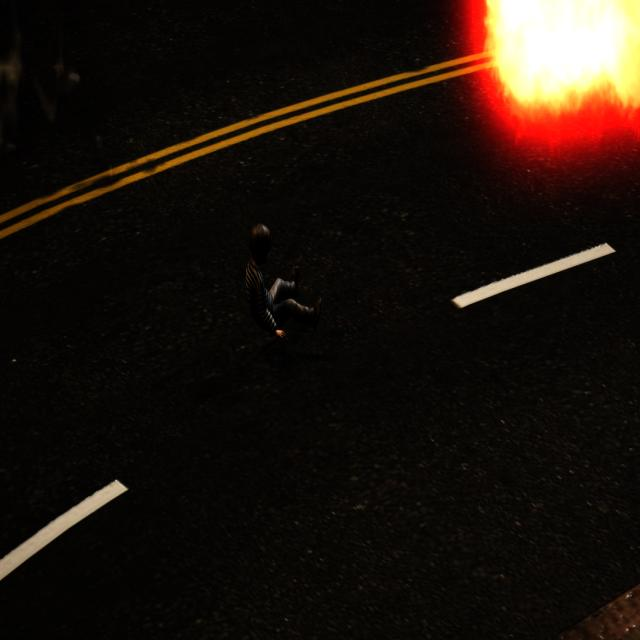Human: (237, 219, 331, 347)
